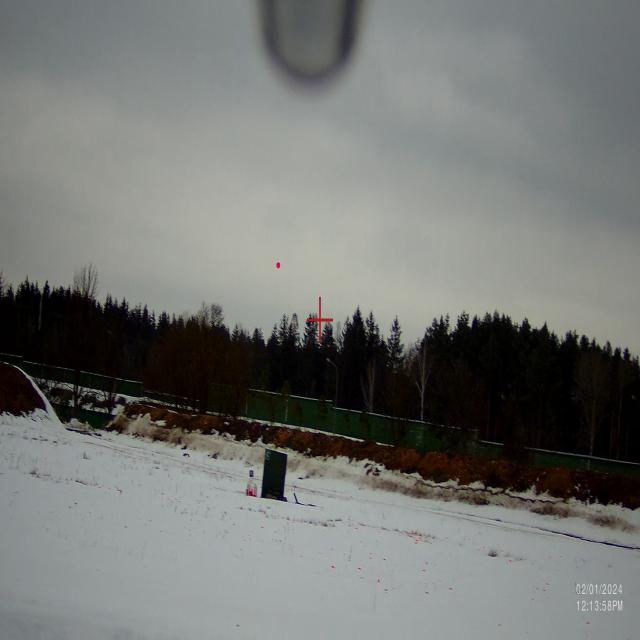entire: (270, 254, 286, 276)
